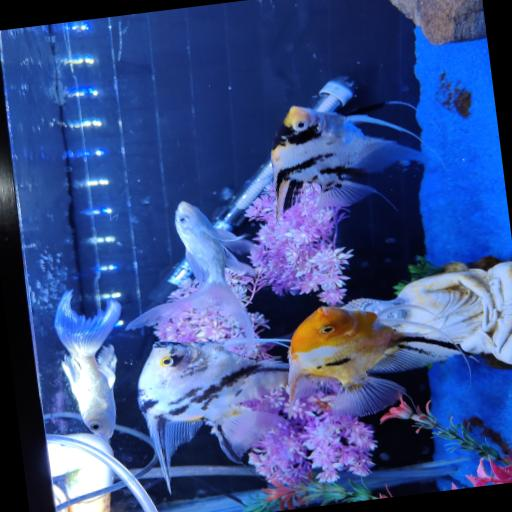Fish: (138, 342, 288, 492), (288, 307, 458, 417), (127, 201, 255, 341), (271, 106, 427, 216), (54, 291, 121, 438)
